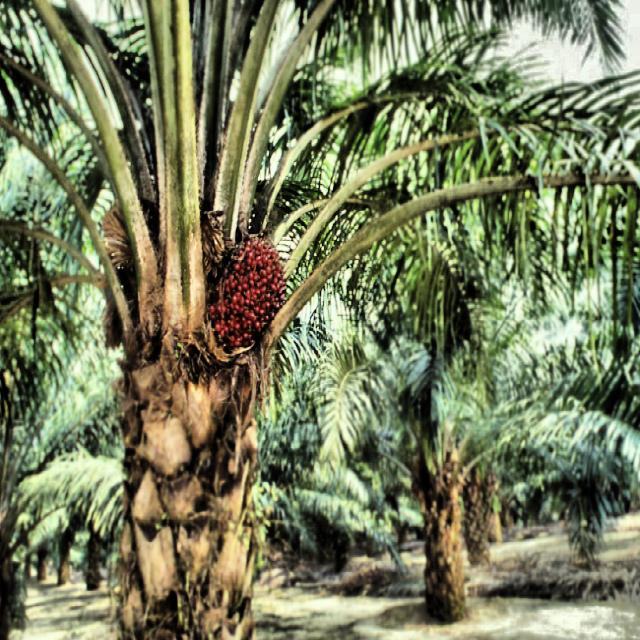FFB: (214, 236, 281, 351)
